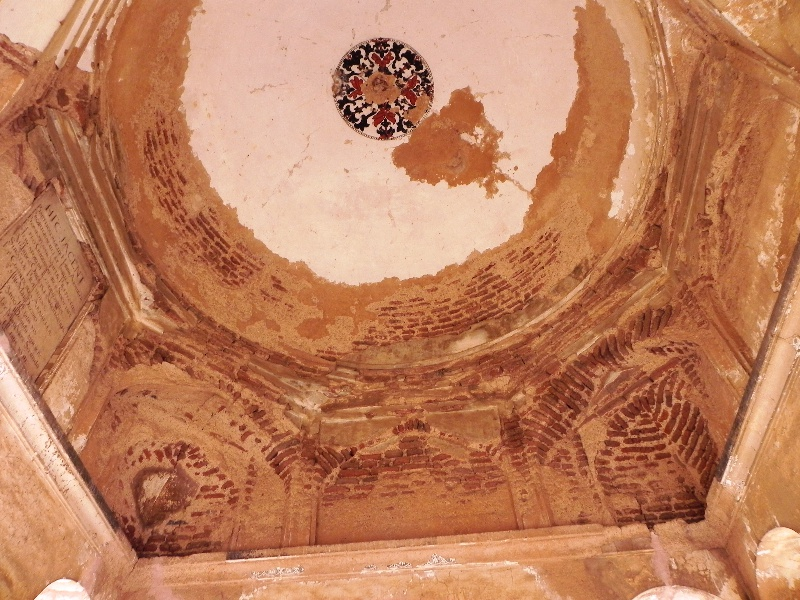Exposed Bricks: (512, 320, 715, 511), (140, 117, 264, 297), (260, 422, 504, 500), (352, 263, 508, 356)
